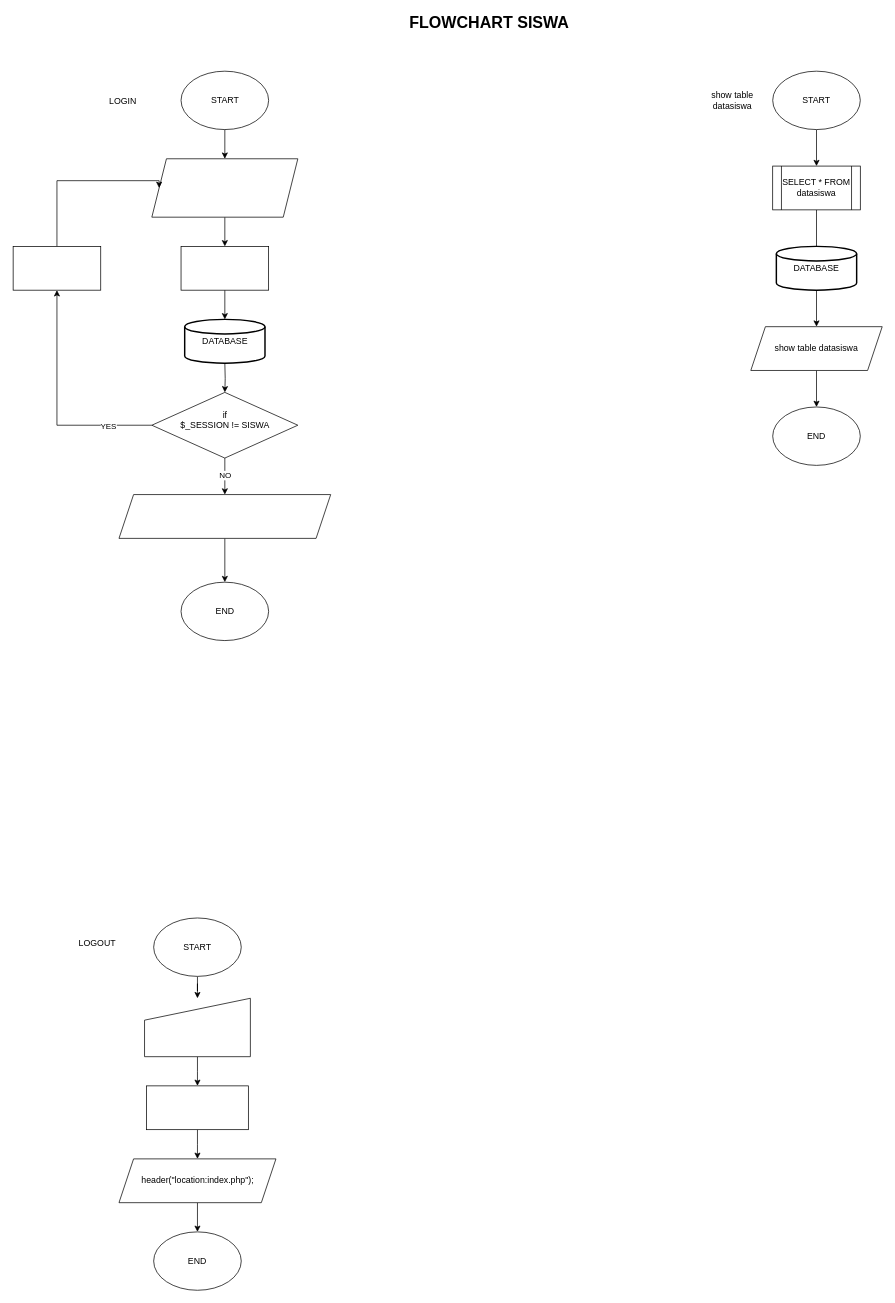
This 895x1303 diagram has some shape labels left out. The shapes that lost their labels are listed below. From the top down, each one's centre as x and y in pixels, then its label:
point (224, 187): INPUT username=$username; password=$password;
point (56, 268): alert("username atau password salah")
point (224, 268): action="check.php" method="post"
point (224, 516): header("location:siswa/dashboard.php");
point (197, 1027): KLIK LOGOUT
point (197, 1107): session_start(); session_unset(); session_destroy();
